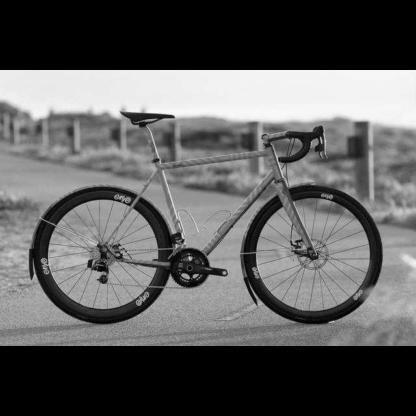Bicycle: (15, 99, 396, 346)
